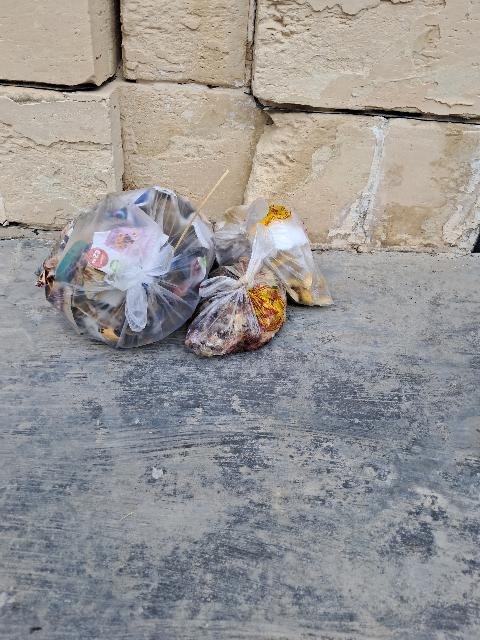Organic -White-: (36, 187, 214, 349), (185, 225, 286, 357), (214, 198, 333, 306)
